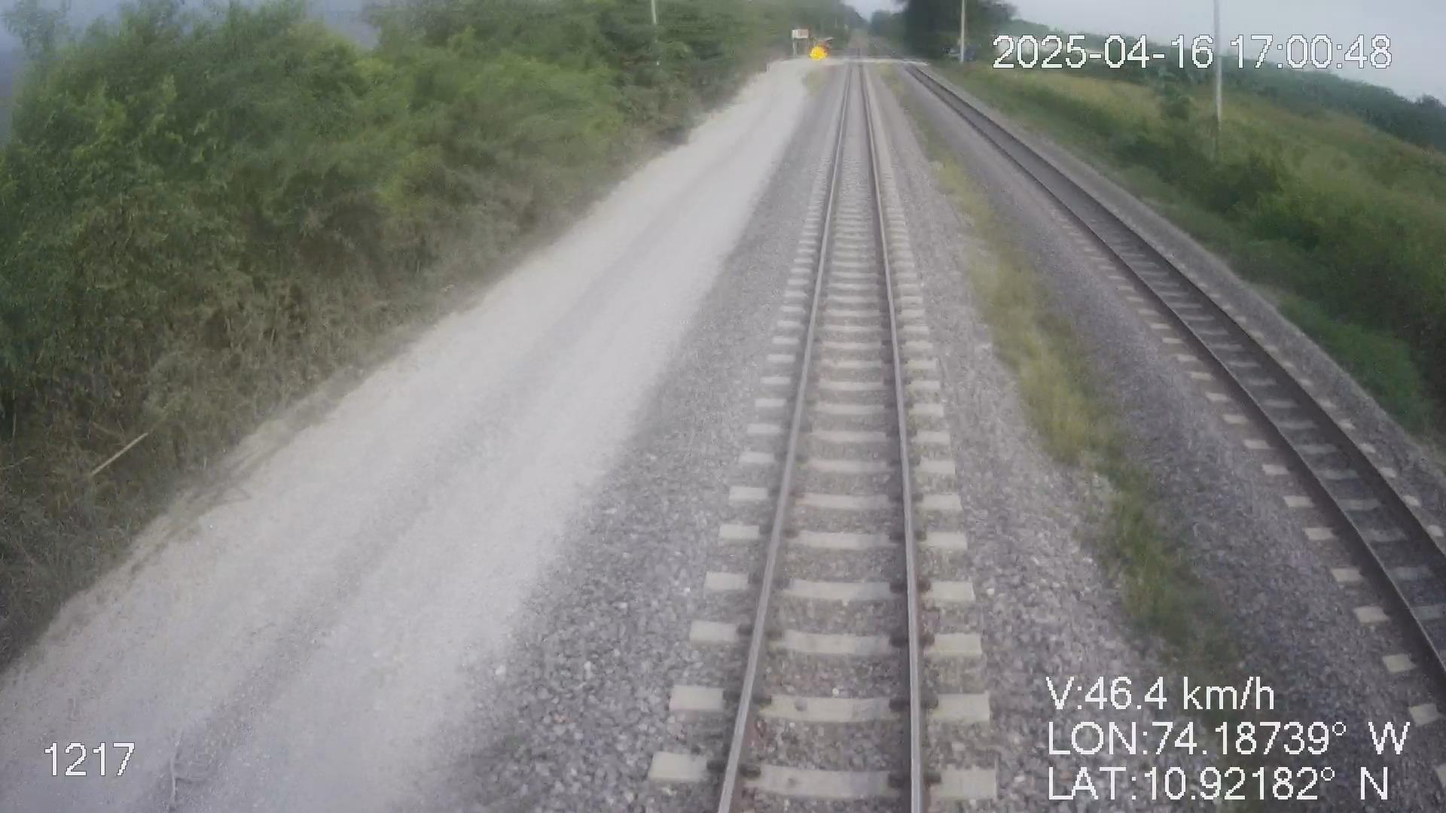Pasto: (0, 0, 837, 678), (944, 40, 1445, 450)
